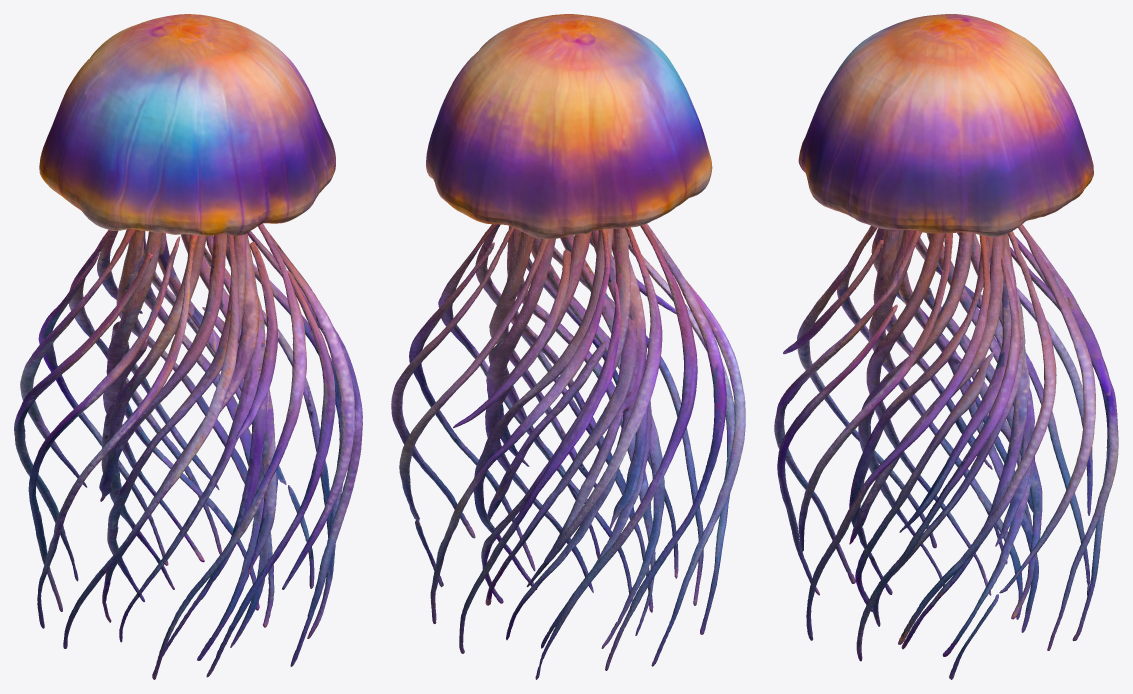
The model's file is lumino.fbx.
3 renders of one model, left to right at view 1: azimuth 30°, elevation 25°; view 2: azimuth 150°, elevation 25°; view 3: azimuth 270°, elevation 25°, orthographic.
Visible parts, largest first — view 1: temp; view 2: temp; view 3: temp.
Part boxes in pixels (x1,y1,x2,y2): temp: (14, 14, 362, 679); temp: (391, 14, 745, 679); temp: (774, 14, 1118, 679).
Size of the model in its own units: 9.02 by 17.07 by 8.91.
1 material, 1 textured.
